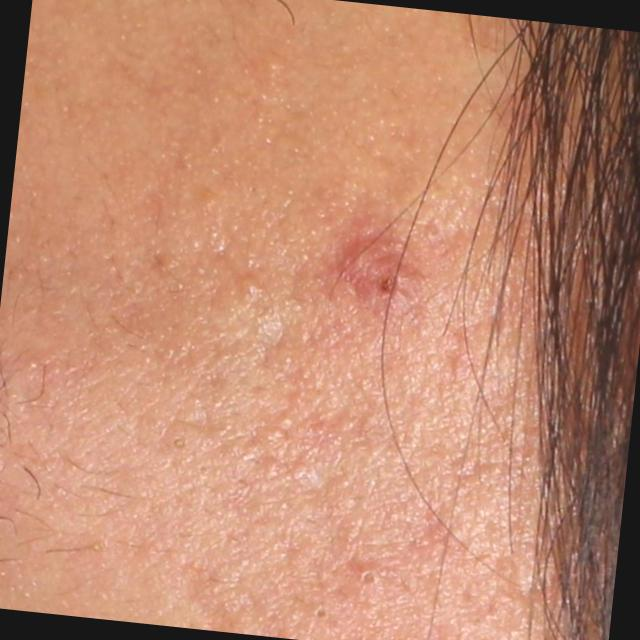blackhead: (362, 572, 374, 584), (173, 438, 184, 448), (316, 610, 326, 618)
